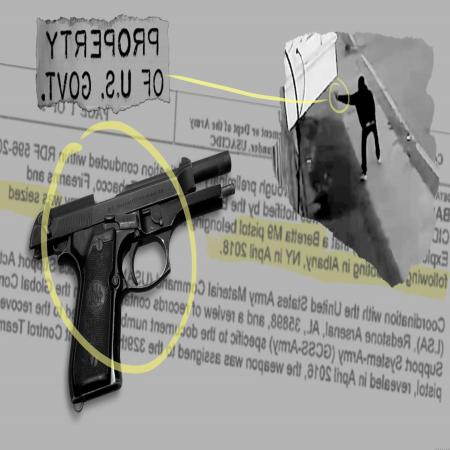Pistol: (16, 93, 249, 395)
